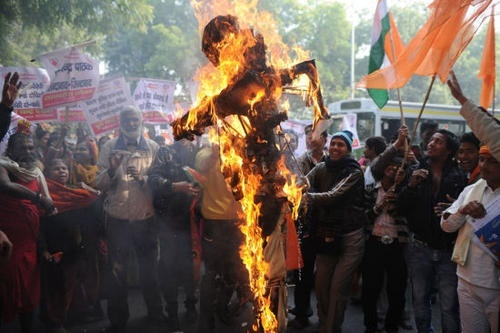fire: (171, 1, 306, 313), (277, 154, 304, 216)
